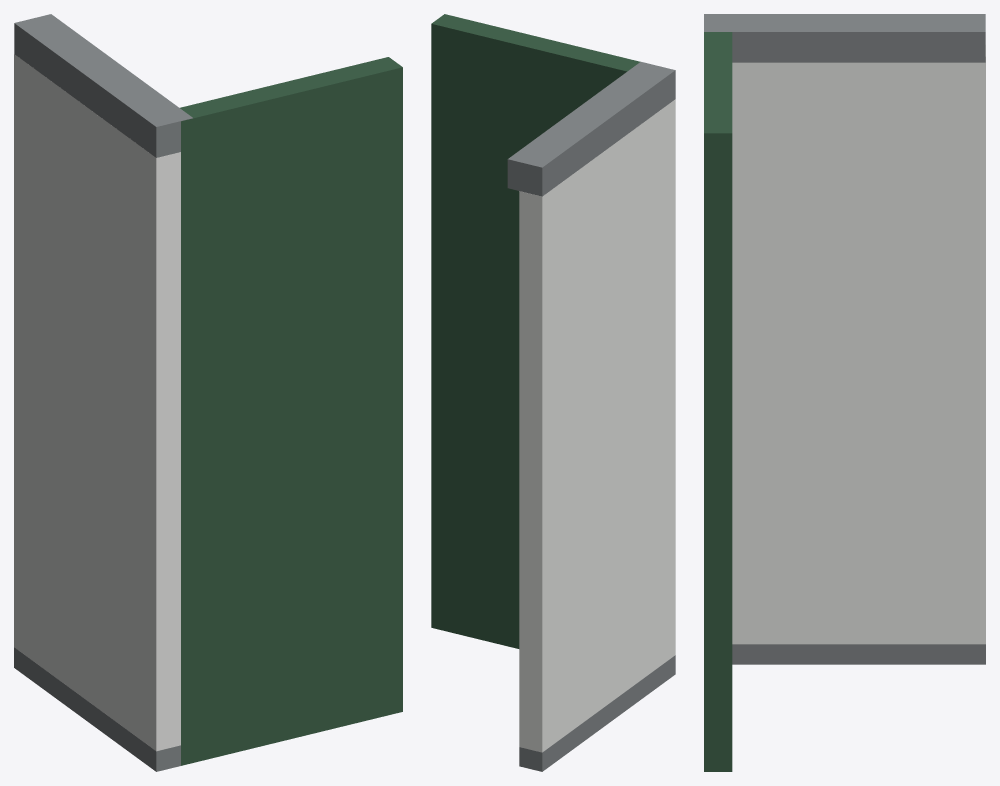
Rendered from main-inside-wall-corner-section_final-optimized.glb.
3 renders of one model, left to right at view 1: azimuth 30°, elevation 25°; view 2: azimuth 150°, elevation 25°; view 3: azimuth 270°, elevation 25°, orthographic. The views are drawn at different scales.
Visible parts, largest first — view 1: inside-1m-wall; view 2: inside-1m-wall; view 3: inside-1m-wall.
Part boxes in pixels (x1,y1,x2,y2): inside-1m-wall: [14, 14, 402, 771]; inside-1m-wall: [431, 14, 675, 771]; inside-1m-wall: [704, 14, 985, 771].
Bounding box in the file's own units: 1 × 2.5 × 1.
